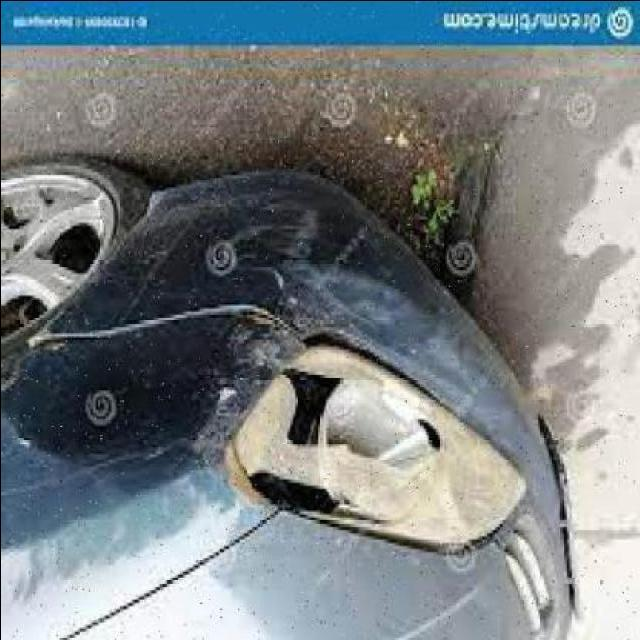Headlight-Damage: (191, 312, 521, 548)
fender-dent: (2, 267, 266, 551)
front-bumper-dent: (38, 169, 555, 330)
